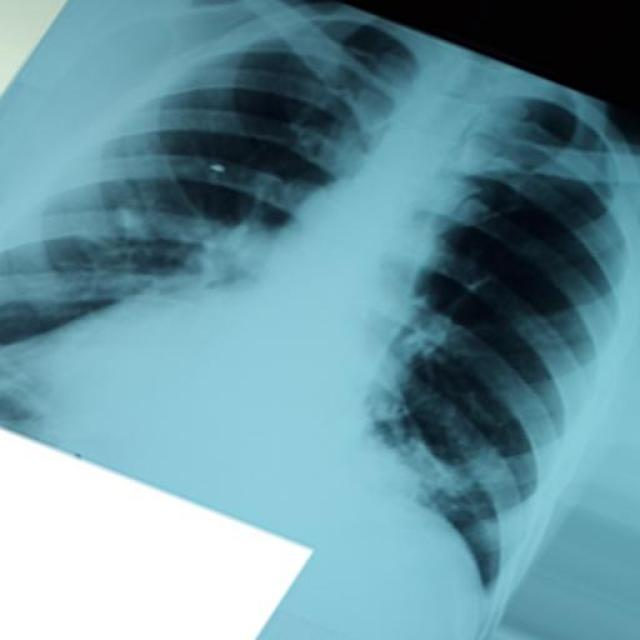tuberculosis: (10, 1, 640, 640)
